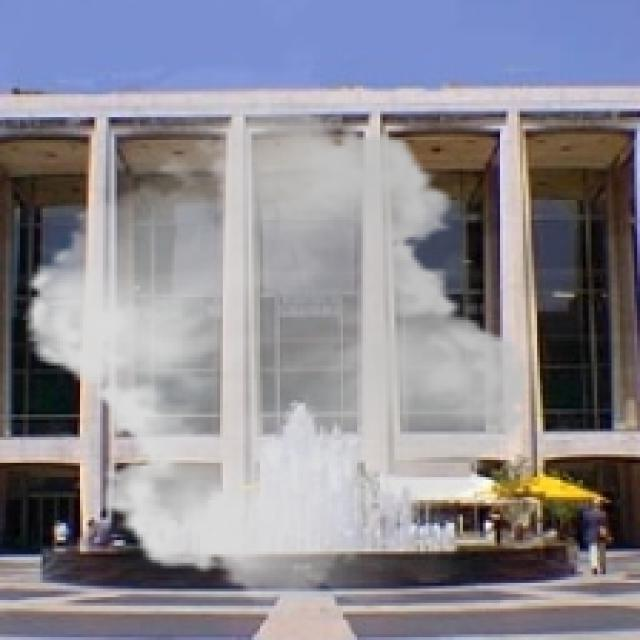smoke: (6, 86, 548, 614)
